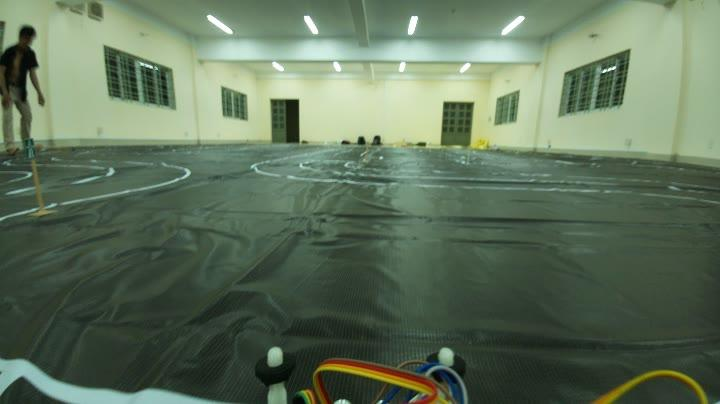highway_entry: (24, 134, 40, 162)
